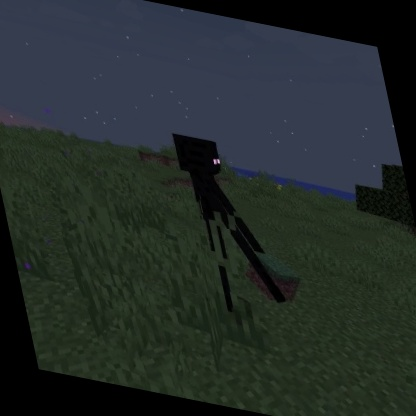enderman: (168, 129, 295, 328)
